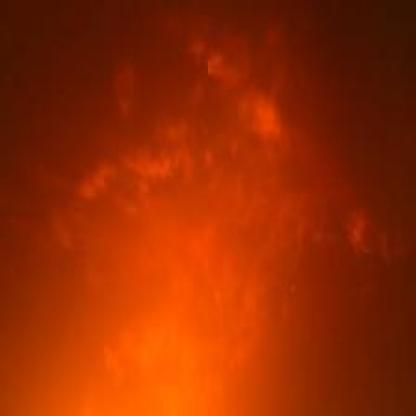fire: (9, 43, 384, 407)
